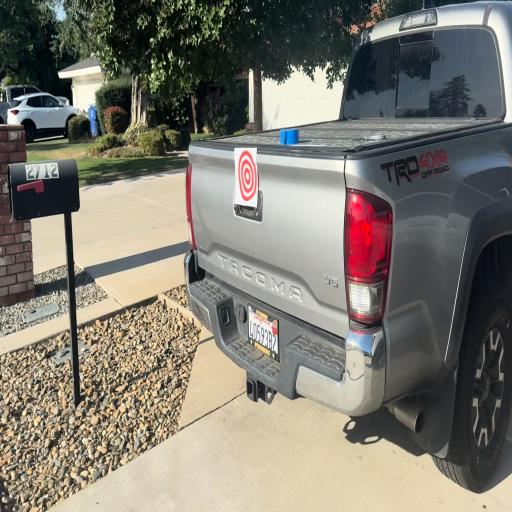bullseye: (237, 148, 258, 206)
